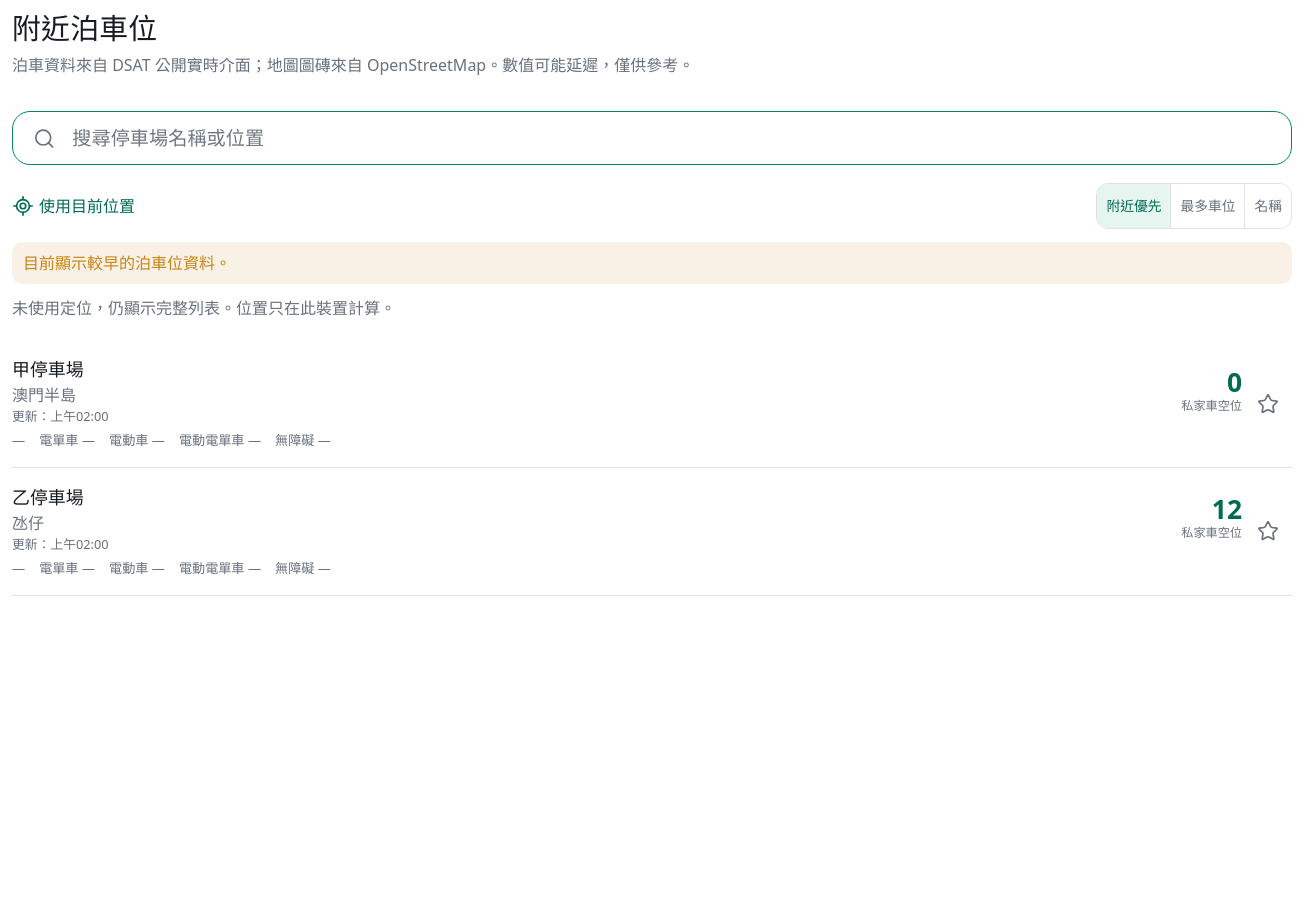
it: ParkingListPage › shows a complete list without GPS, filters search, and renders unknown values as —
This screenshot has width=1304, height=900.
Check: the text "甲停車場" is shown, box [12, 357, 84, 381]
Check: the text "乙停車場" is shown, box [12, 485, 84, 509]
Click the button "使用目前位置" at (74, 206), box [12, 184, 135, 228]
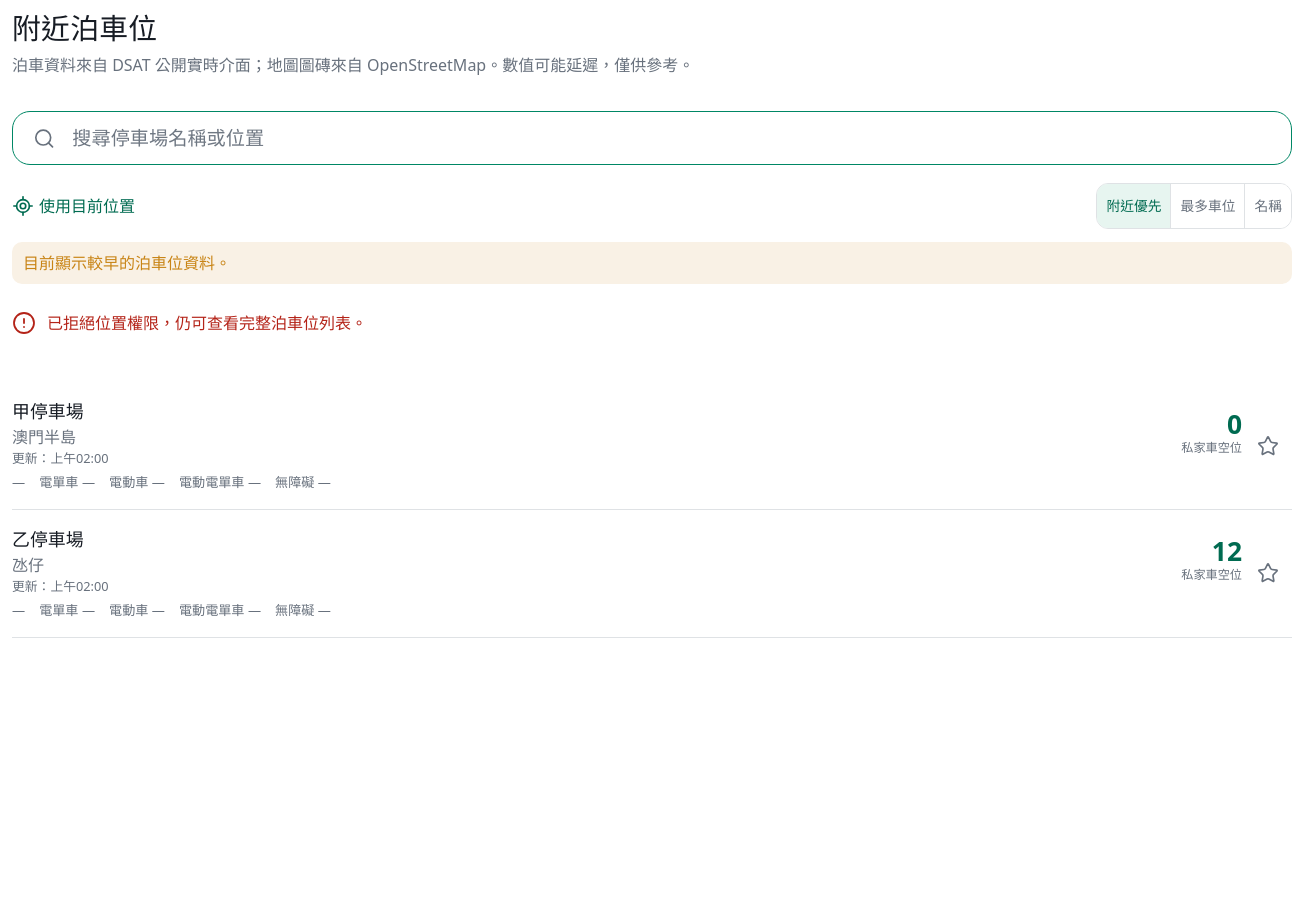
Check: the text "已拒絕位置權限，仍可查看完整泊車位列表。" is shown, box [47, 312, 367, 334]
Type "氹仔" into the search field labelled "搜尋停車場名稱或位置" at (671, 138), box [70, 123, 1271, 154]
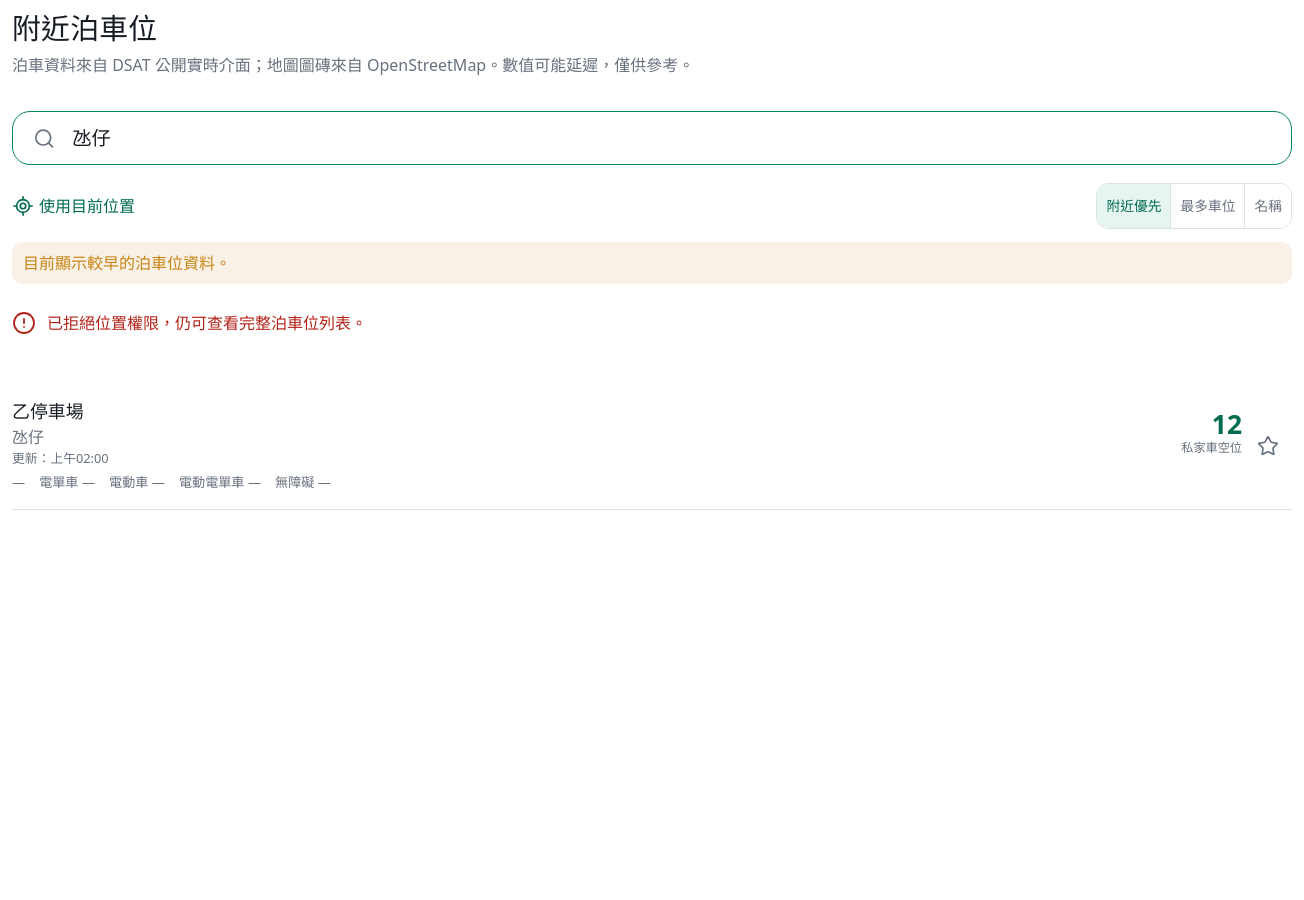
Check: the text "乙停車場" is shown, box [12, 399, 84, 423]
Check: the button "甲停車場" is gone
